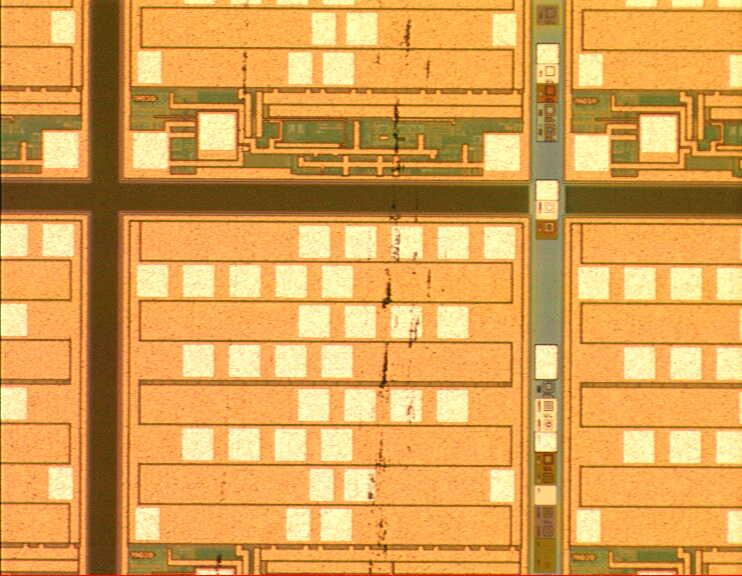PO CONTAMINATION: (209, 1, 446, 576)
